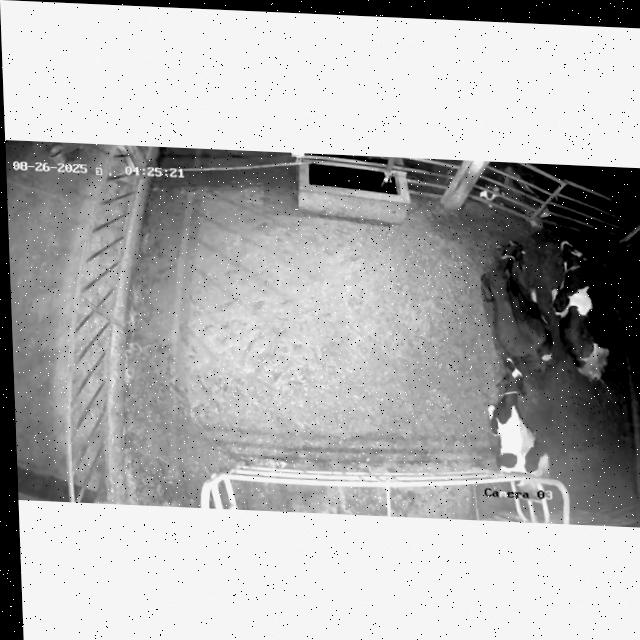lay: (465, 234, 559, 374), (468, 356, 562, 492), (549, 236, 622, 388)
